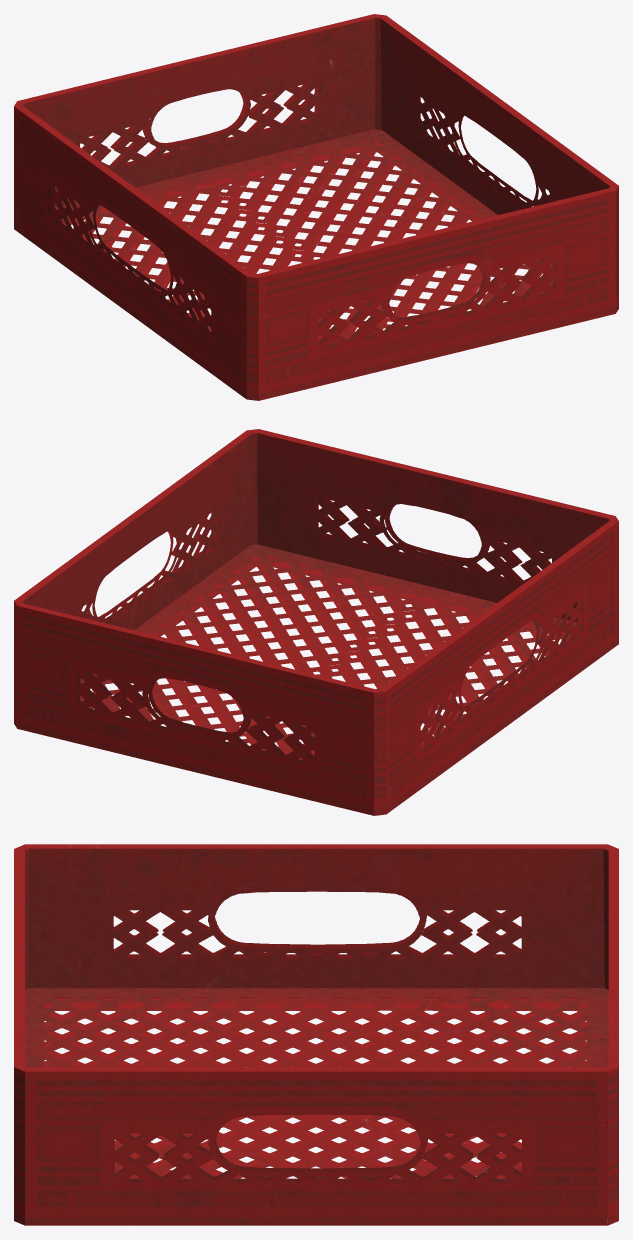
The model's file is Prop_Vegetable_Box_Red.fbx.
The picture shows the model from 3 angles, top to bottom: view 1: azimuth 30°, elevation 25°; view 2: azimuth 150°, elevation 25°; view 3: azimuth 270°, elevation 25°; orthographic projection. The views are drawn at different scales.
Visible parts, largest first — view 1: Prop_Vegetable_Box_Red; view 2: Prop_Vegetable_Box_Red; view 3: Prop_Vegetable_Box_Red.
Boxes of the visible parts, x1,y1,x2,y2 form: Prop_Vegetable_Box_Red: (14, 14, 618, 400); Prop_Vegetable_Box_Red: (14, 429, 618, 815); Prop_Vegetable_Box_Red: (14, 844, 618, 1225).
Bounding box in the file's own units: 28.84 × 9.1 × 32.42.
